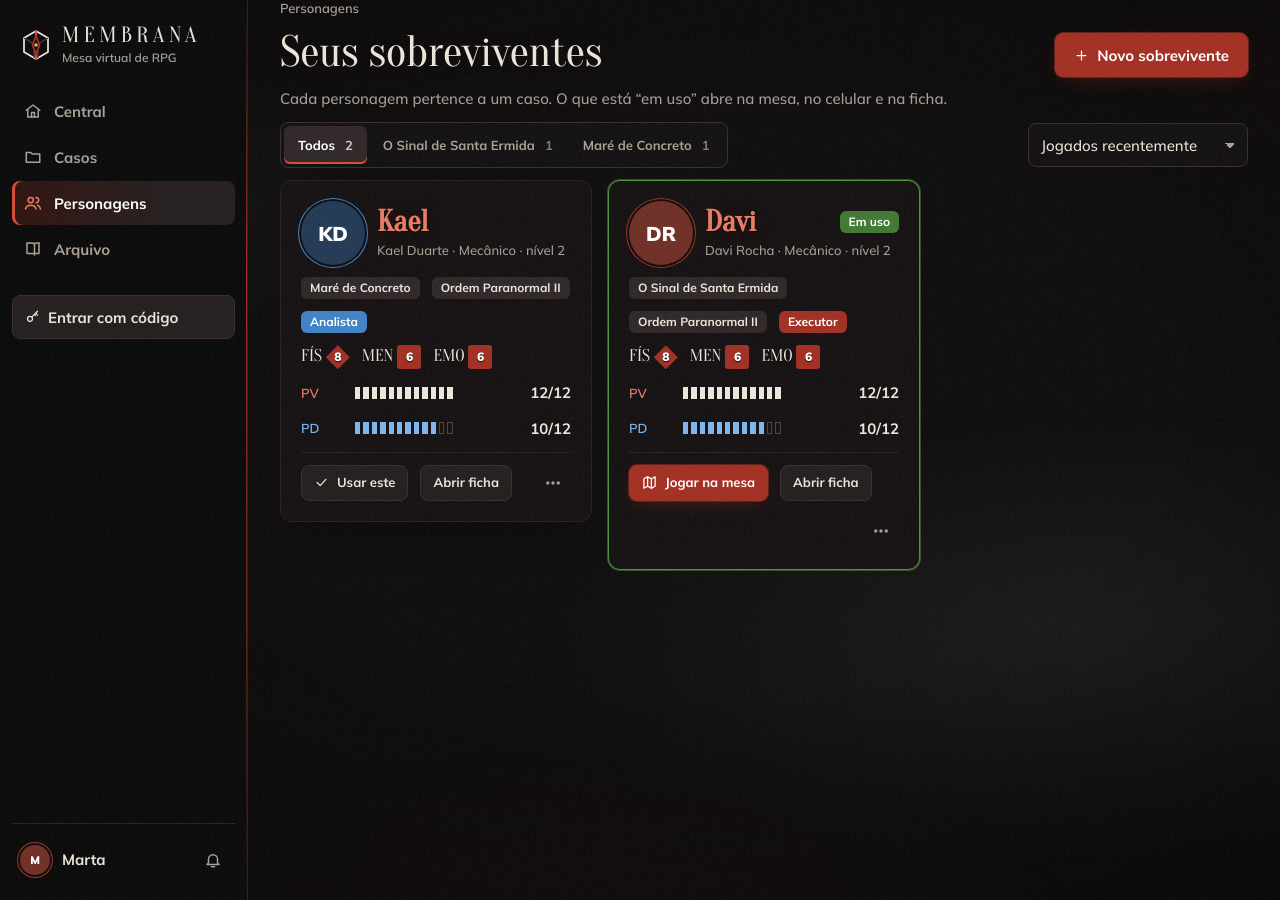
it: Remover › remove com aviso de sucesso e "Desfazer" por 5 s
The image size is (1280, 900).
expect the element "Davi" is shown: met, box [608, 180, 920, 570]
Step 1. Click the button named "Mais ações para Davi" → (881, 531), box [863, 513, 899, 549]
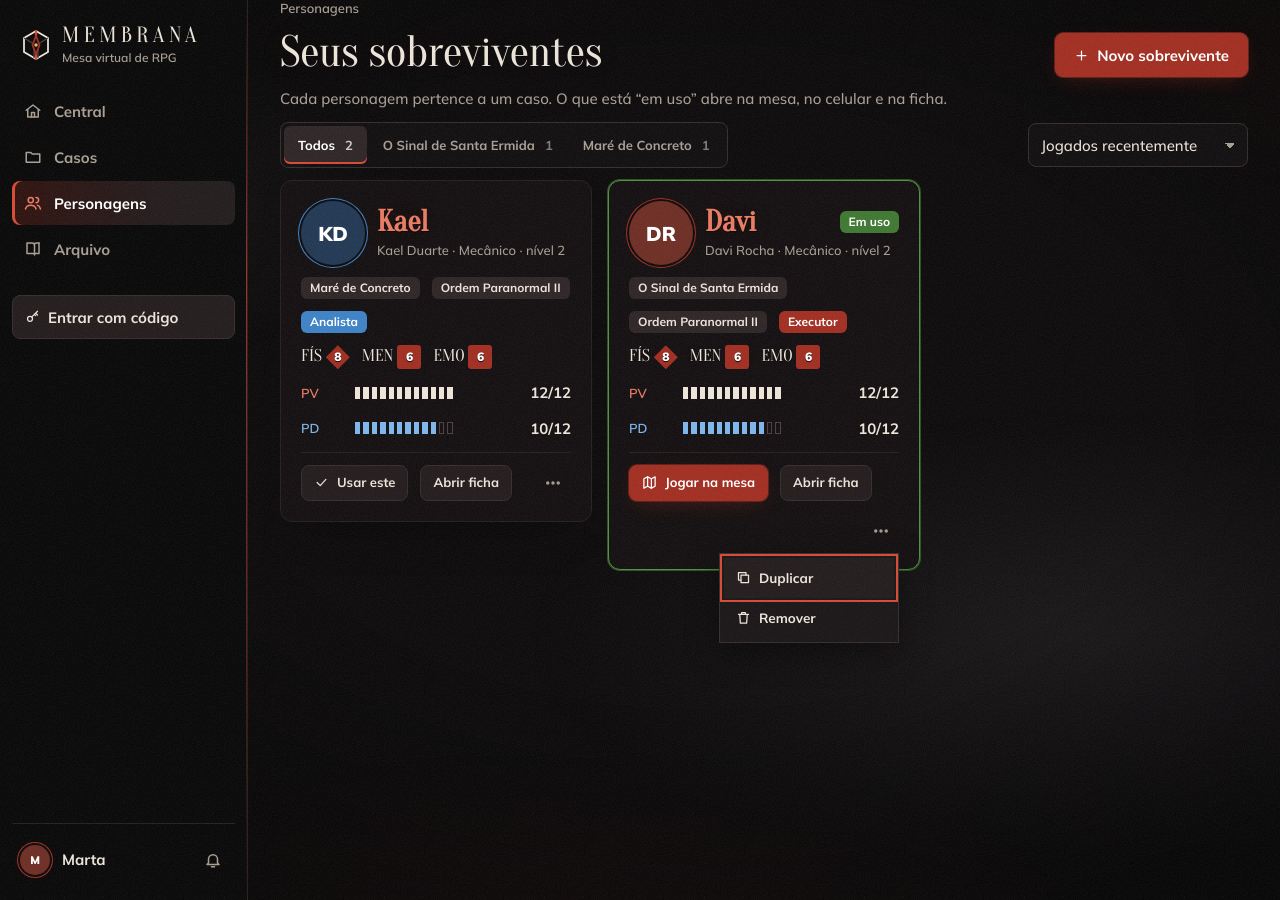
Step 2. Click the menu item "Remover" → (809, 618), box [724, 598, 894, 638]
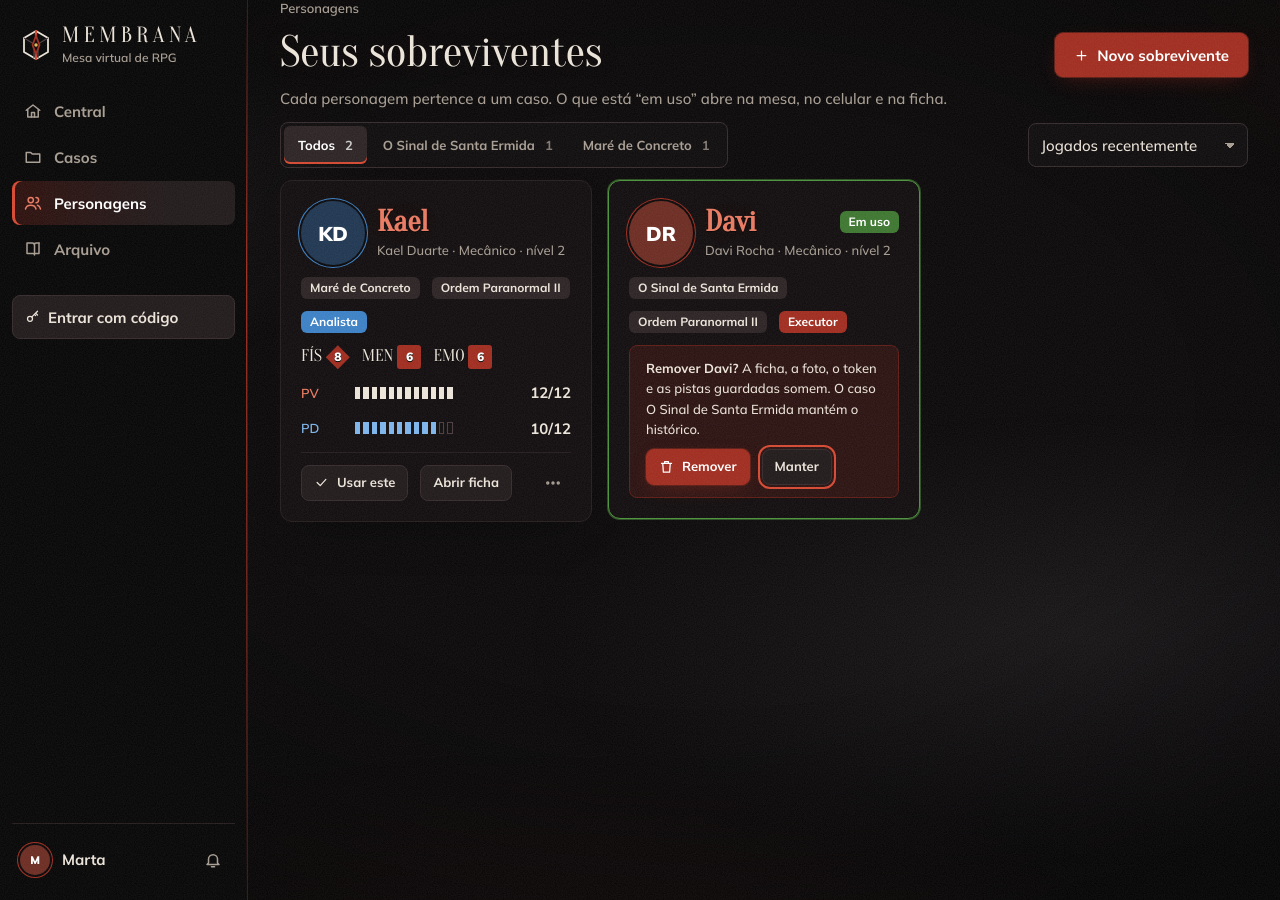
Step 3. Click the button "Remover" → (698, 467), box [646, 449, 750, 485]
Wait 5000 ms
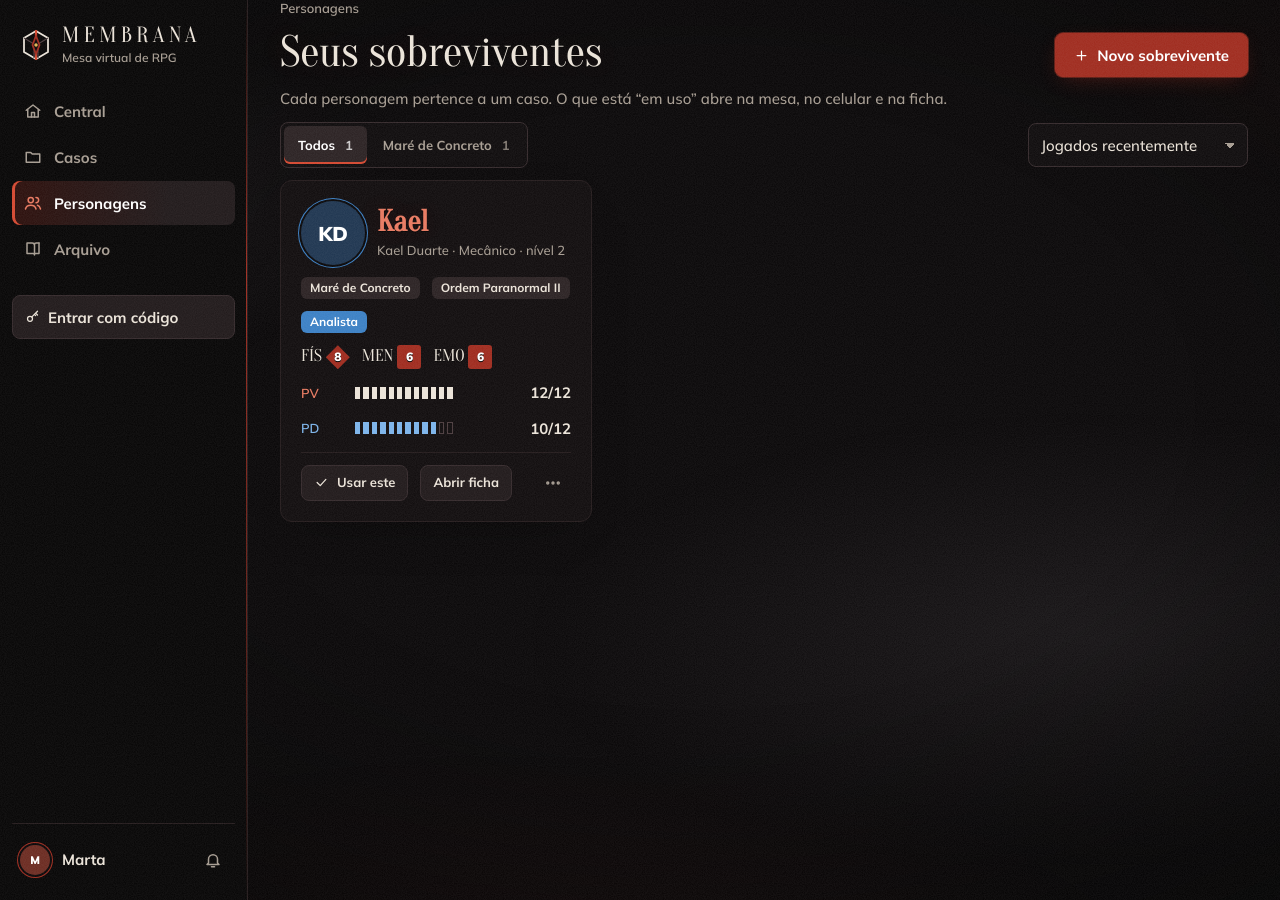
expect the text "Davi" is gone: met
